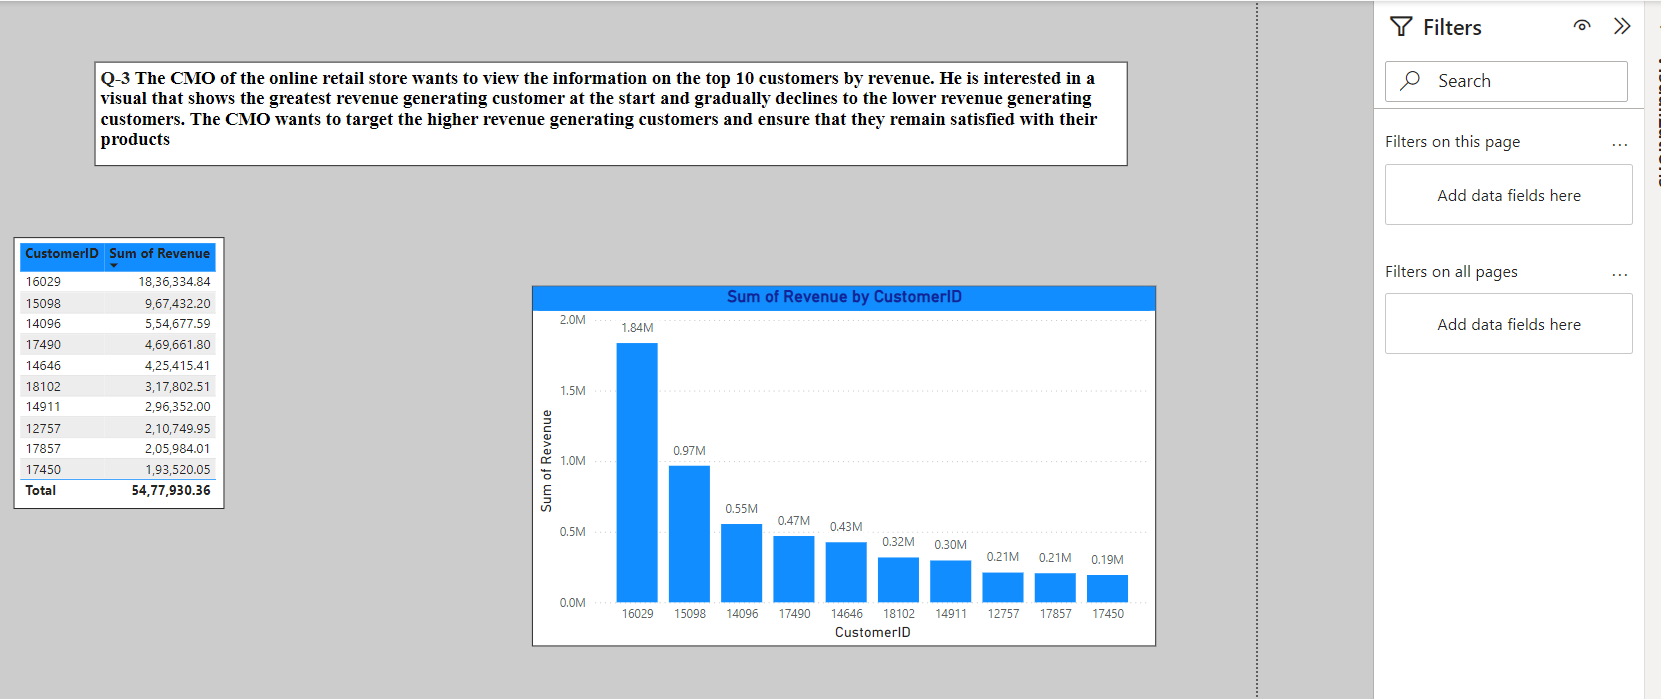

What the dashboard file says about the page in this screenshot:
{"tool":"powerbi","page":{"name":"Q3","canvas":[1280,720],"ordinal":3},"visuals":[{"type":"tableEx","fields":{"Values":["Online Retail.CustomerID","Sum(Online Retail.Revenue )"]},"box":[25.5,238.1,212.6,273.8],"z":0},{"type":"lineStackedColumnComboChart","fields":{"Category":["Online Retail.CustomerID"],"Y":["Sum(Online Retail.Revenue )"]},"box":[548.9,287.4,629.3,363.7],"z":1000},{"type":"textbox","box":[107.1,61.2,1042.4,105.4],"z":2000}]}

Visuals, with their boxes on the page's 1280x720 design canvas (x1, y1, x2, y2). These are canvas units, not pixel positions in the 1661x699 screenshot, which may show the page scaled, cropped or inside an application window:
tableEx - Online Retail.CustomerID x Sum(Online Retail.Revenue ): bbox=[26, 238, 238, 512]
lineStackedColumnComboChart - Online Retail.CustomerID x Sum(Online Retail.Revenue ): bbox=[549, 287, 1178, 651]
textbox: bbox=[107, 61, 1150, 167]
